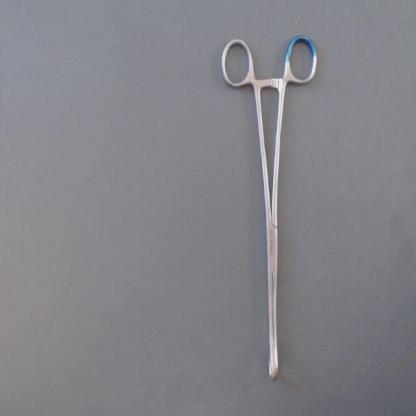Sponge Forceps: (217, 27, 322, 386)
